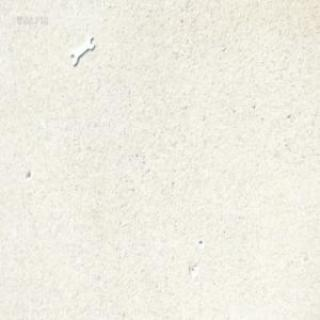Wrenchtrack_idkeyframe: (69, 31, 94, 64)
